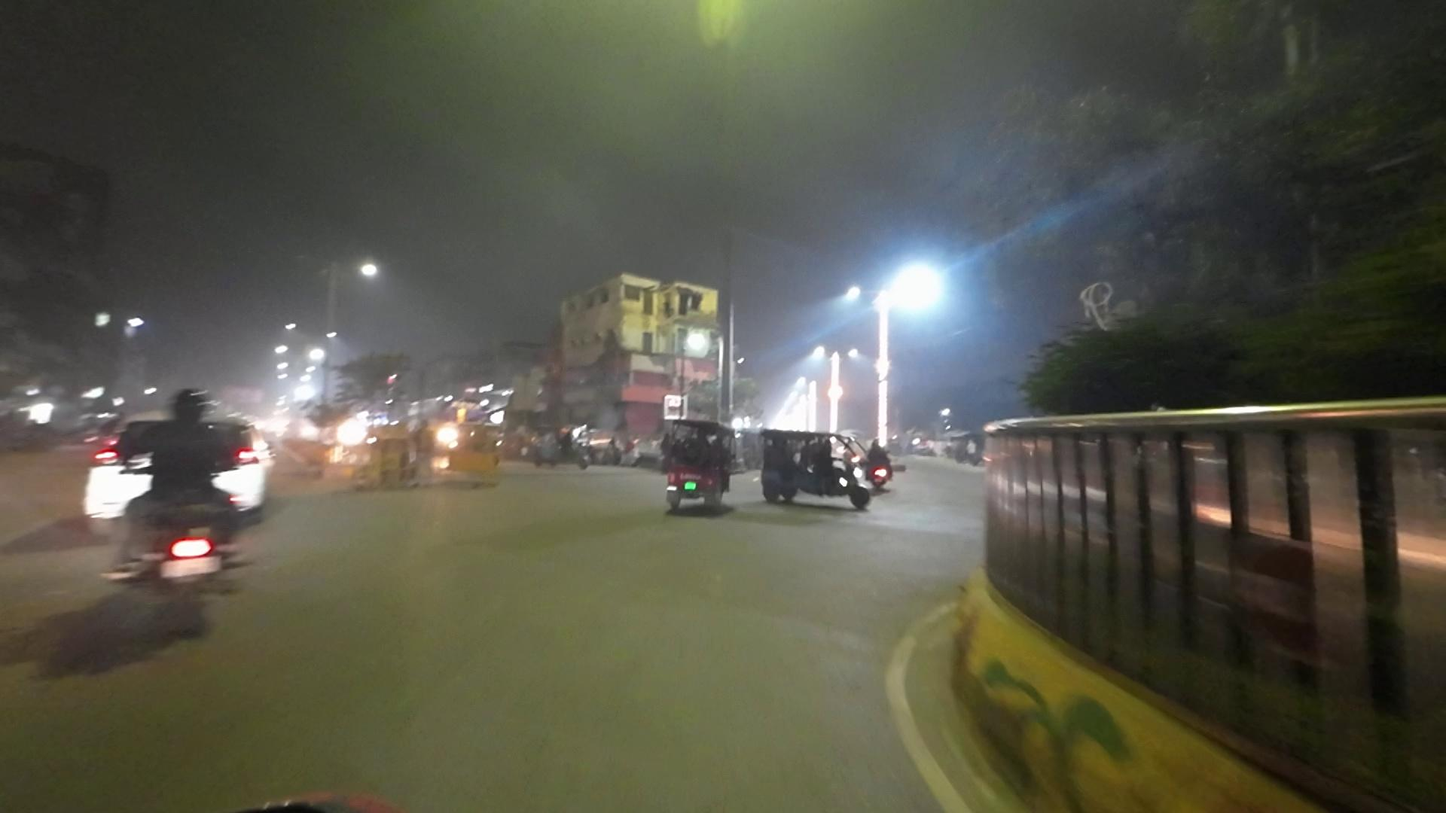streetlight: (294, 252, 327, 264)
